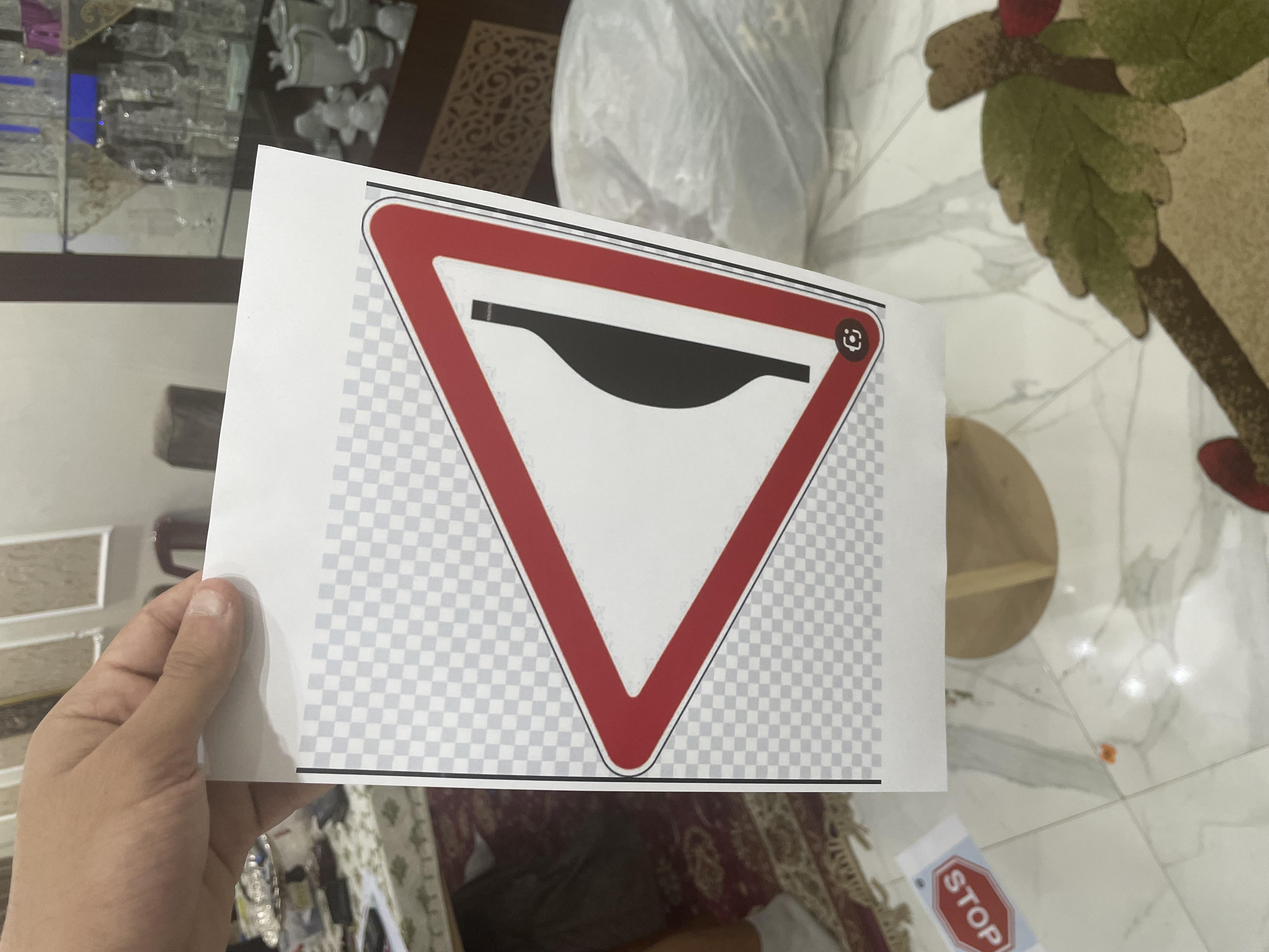Hump: (230, 267, 1016, 666)
